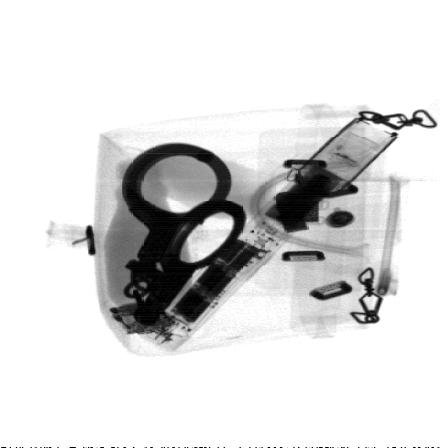Baton: (138, 114, 401, 356)
HandCuffs: (119, 141, 249, 327)
